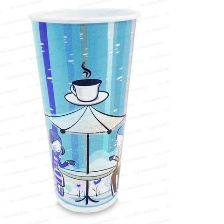paper_cup: (23, 2, 144, 218)
